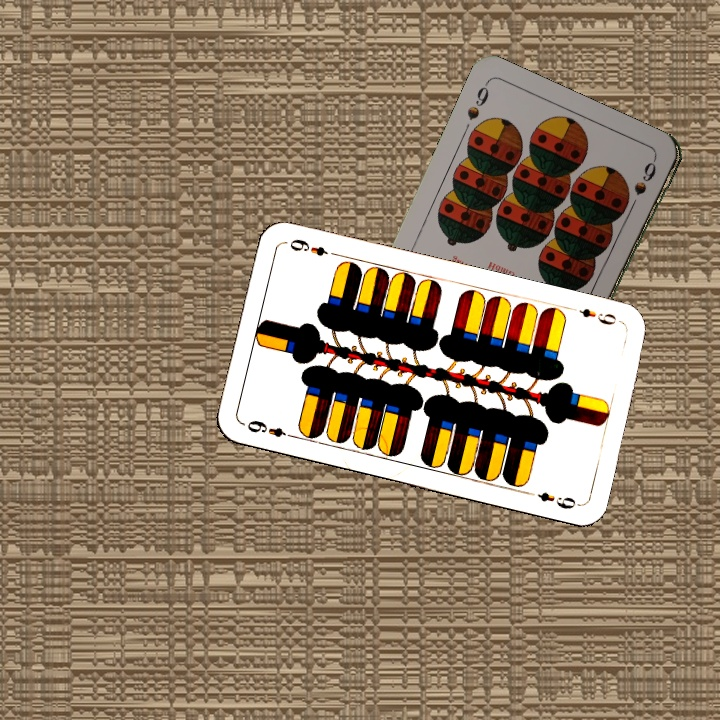E9: (243, 416, 298, 441), (575, 304, 624, 328)
S9: (463, 78, 492, 123)
